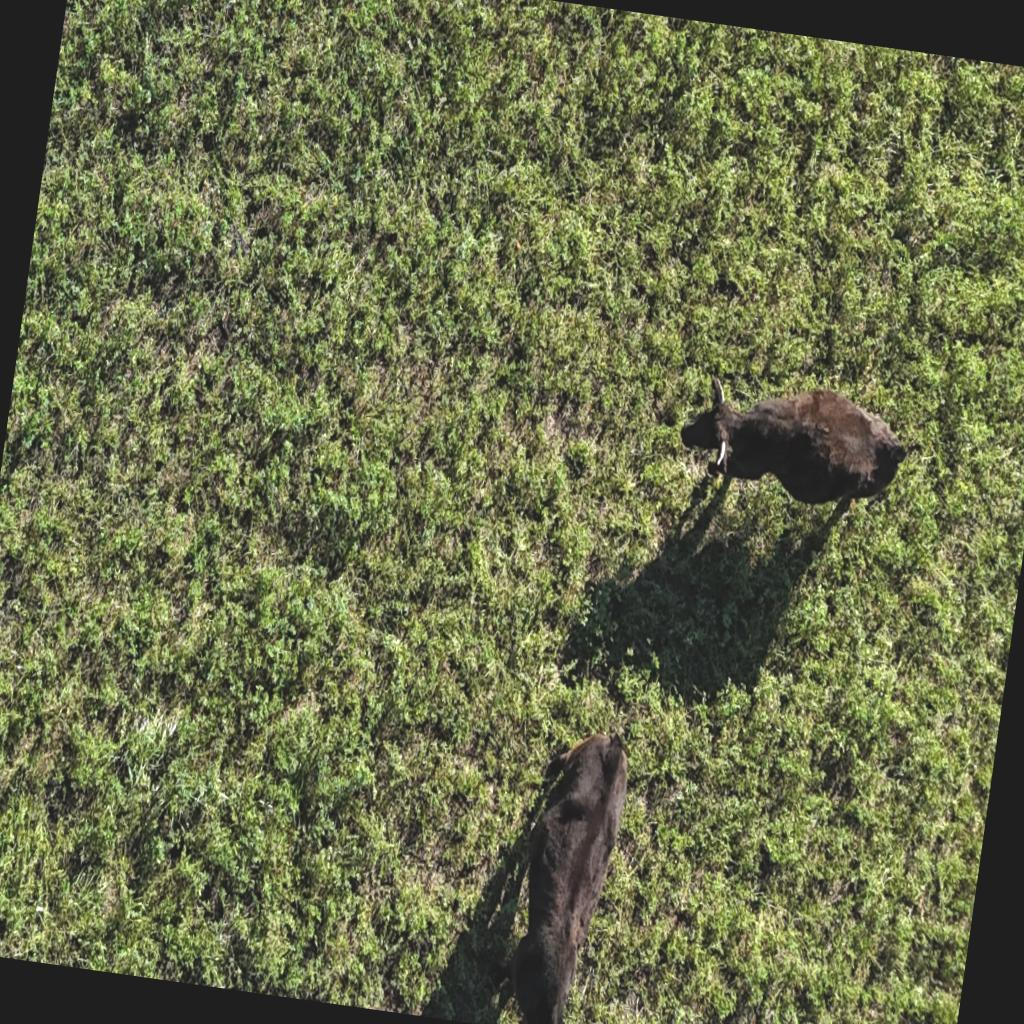cow: (463, 712, 638, 1024), (664, 352, 920, 549)
